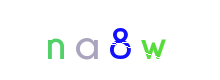8: (70, 0, 150, 80)
A: (68, 0, 148, 80)
N: (59, 0, 139, 80)
W: (80, 0, 160, 80)
